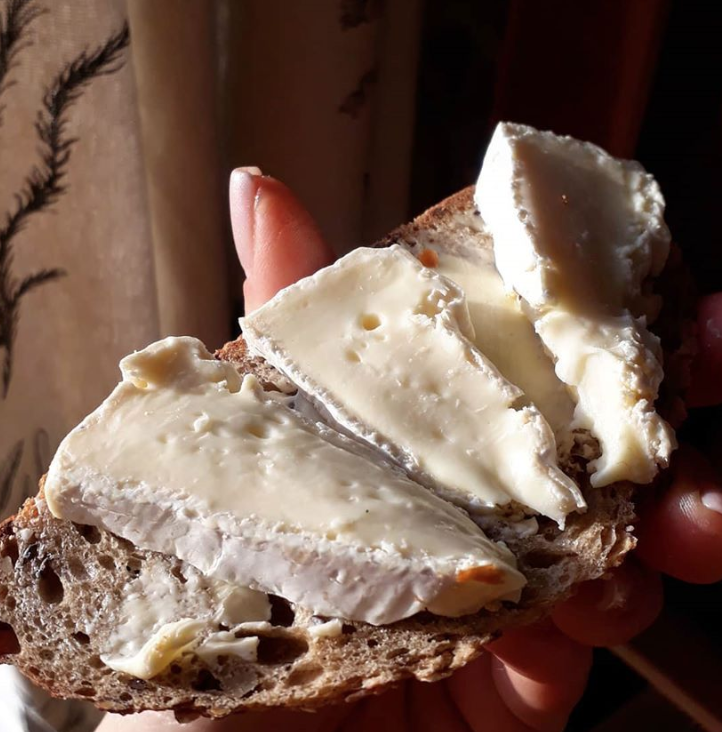camembert: (40, 336, 526, 621), (238, 249, 591, 526), (472, 119, 666, 488)
